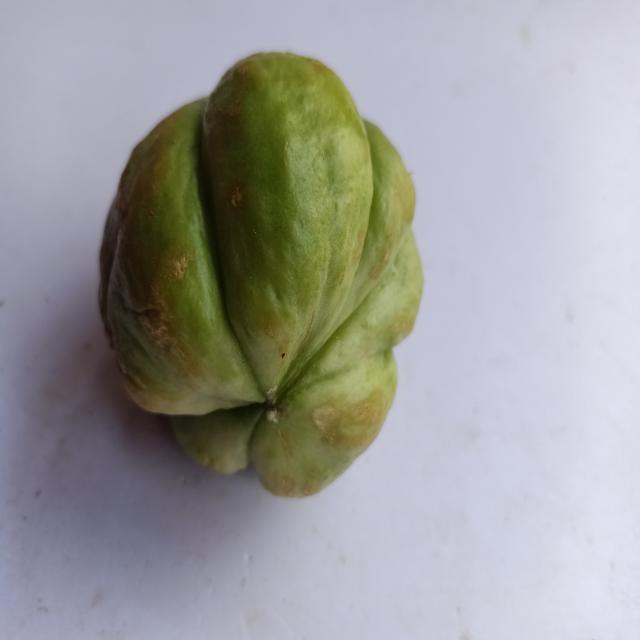Chayote: (80, 38, 432, 510)
